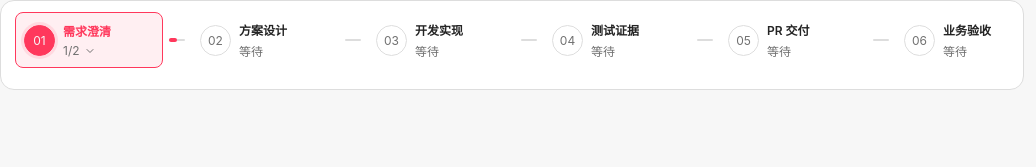
Test: workflow viewing and actual progress › connects the selected stage to its nodes without moving actual Gate progress
This screenshot has width=1036, height=167.
Check: the button "01 需求澄清 1/2" is shown, box x1=15 y1=12 x2=163 y2=68
Step 1. Click the button "02 方案设计 等待" → (265, 40), box x1=191 y1=11 x2=339 y2=69
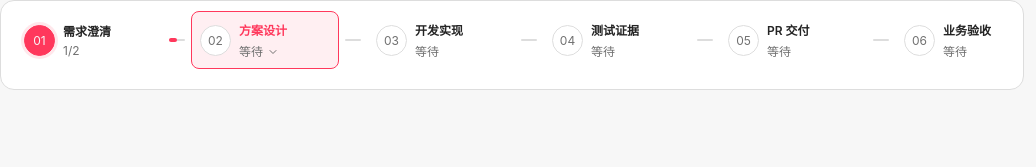
Check: the button "子步骤" is not shown
Check: the button "01 需求澄清 1/2" does not have attribute aria-expanded, box x1=15 y1=12 x2=163 y2=68
Check: the button "02 方案设计 等待" is collapsed
Step 2. Click the button "02 方案设计 等待" → (265, 40), box x1=191 y1=11 x2=339 y2=69
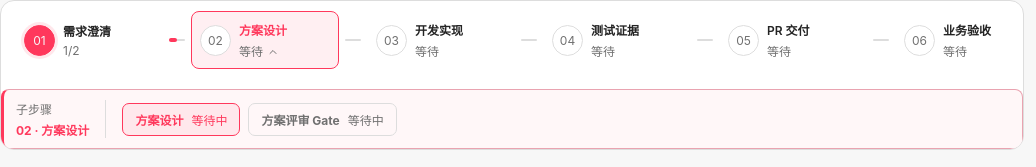
Check: the element named "当前查看阶段的节点" shows "02 · 方案设计", box x1=1 y1=89 x2=1023 y2=149
Step 3. Click the button "01 需求澄清 1/2" → (89, 40), box x1=15 y1=12 x2=163 y2=68
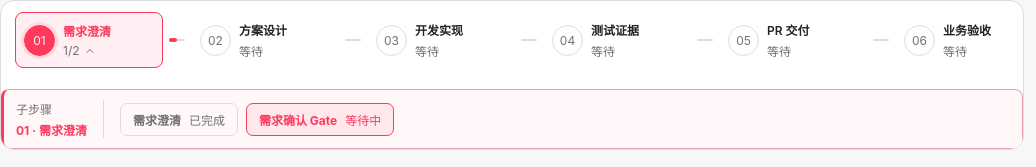
Check: the button "01 需求澄清 1/2" is expanded
Step 4. Click the button "01 需求澄清 1/2" → (89, 40), box x1=15 y1=12 x2=163 y2=68
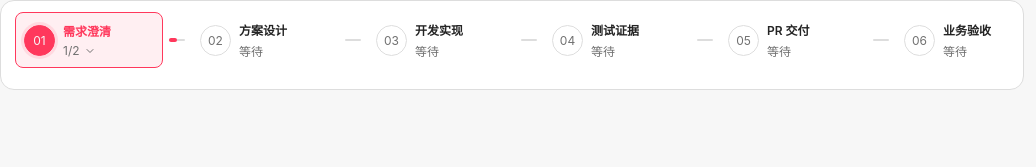
Check: the element "当前查看阶段的节点" is gone
